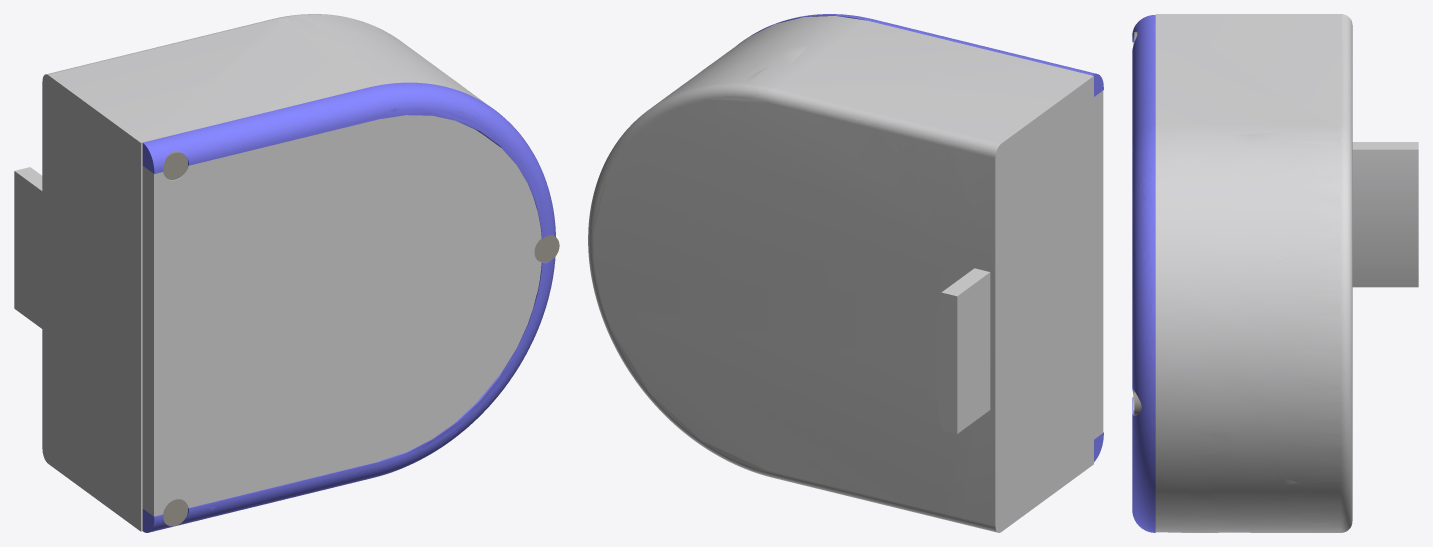
The model's file is brooks_pf400_z_carriage.glb.
3 renders of one model, left to right at view 1: azimuth 30°, elevation 25°; view 2: azimuth 150°, elevation 25°; view 3: azimuth 270°, elevation 25°, orthographic.
Parts seen in each view (by area): view 1: brooks_pf400_z_carriage; view 2: brooks_pf400_z_carriage; view 3: brooks_pf400_z_carriage.
Part boxes in pixels (bbox=[...]): brooks_pf400_z_carriage: bbox=[14, 14, 559, 532]; brooks_pf400_z_carriage: bbox=[588, 14, 1103, 532]; brooks_pf400_z_carriage: bbox=[1132, 14, 1418, 532].
Bounding box in the file's own units: 0.122 × 0.11 × 0.0735.
